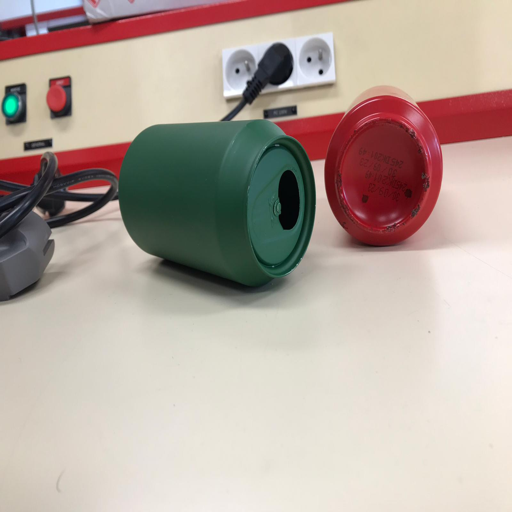Green_Can: (115, 117, 317, 290)
Red_Can: (322, 83, 445, 247)
